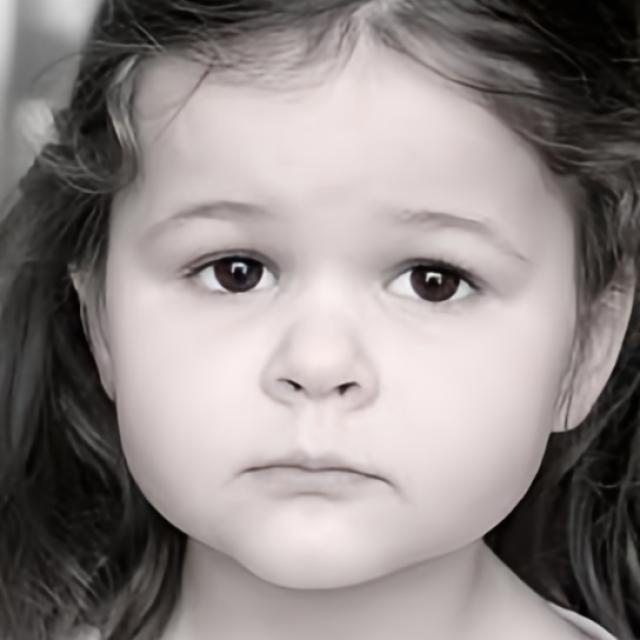sad: (105, 22, 582, 592)
